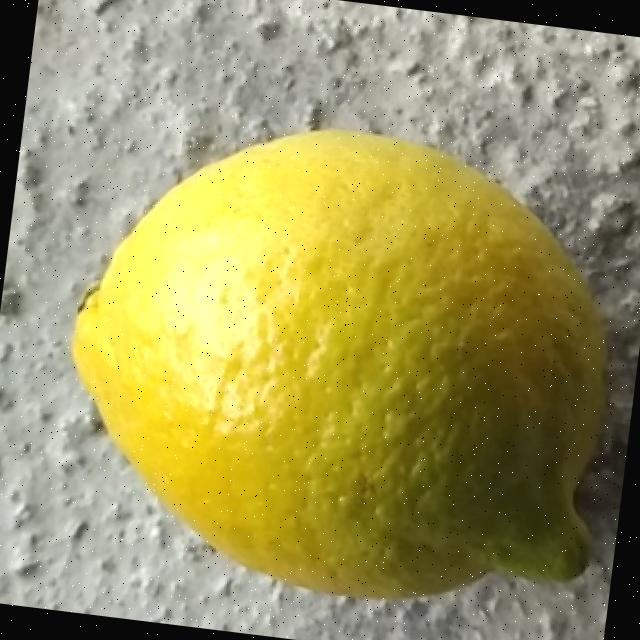Ripe: (38, 93, 640, 628)
